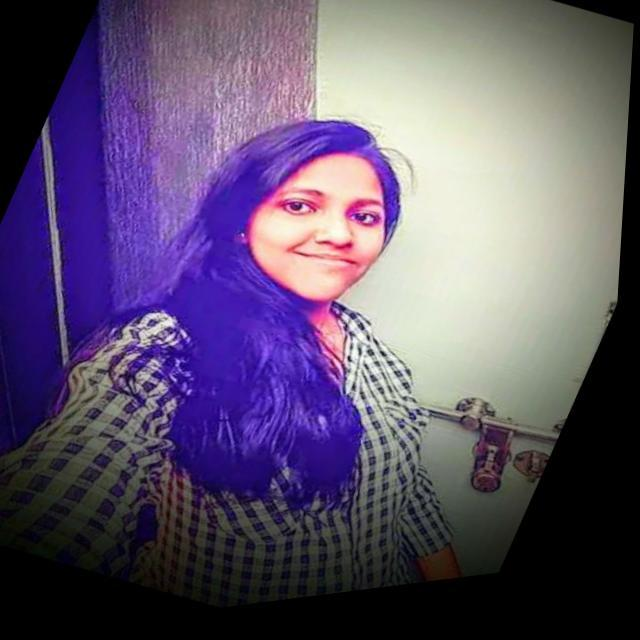Nonhelmet: (193, 94, 372, 278)
